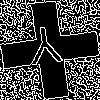Y: (25, 25, 65, 75)
